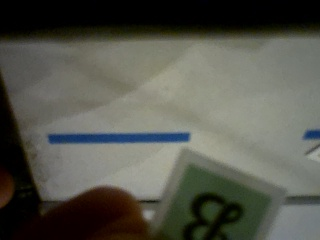B: (153, 162, 274, 240)
